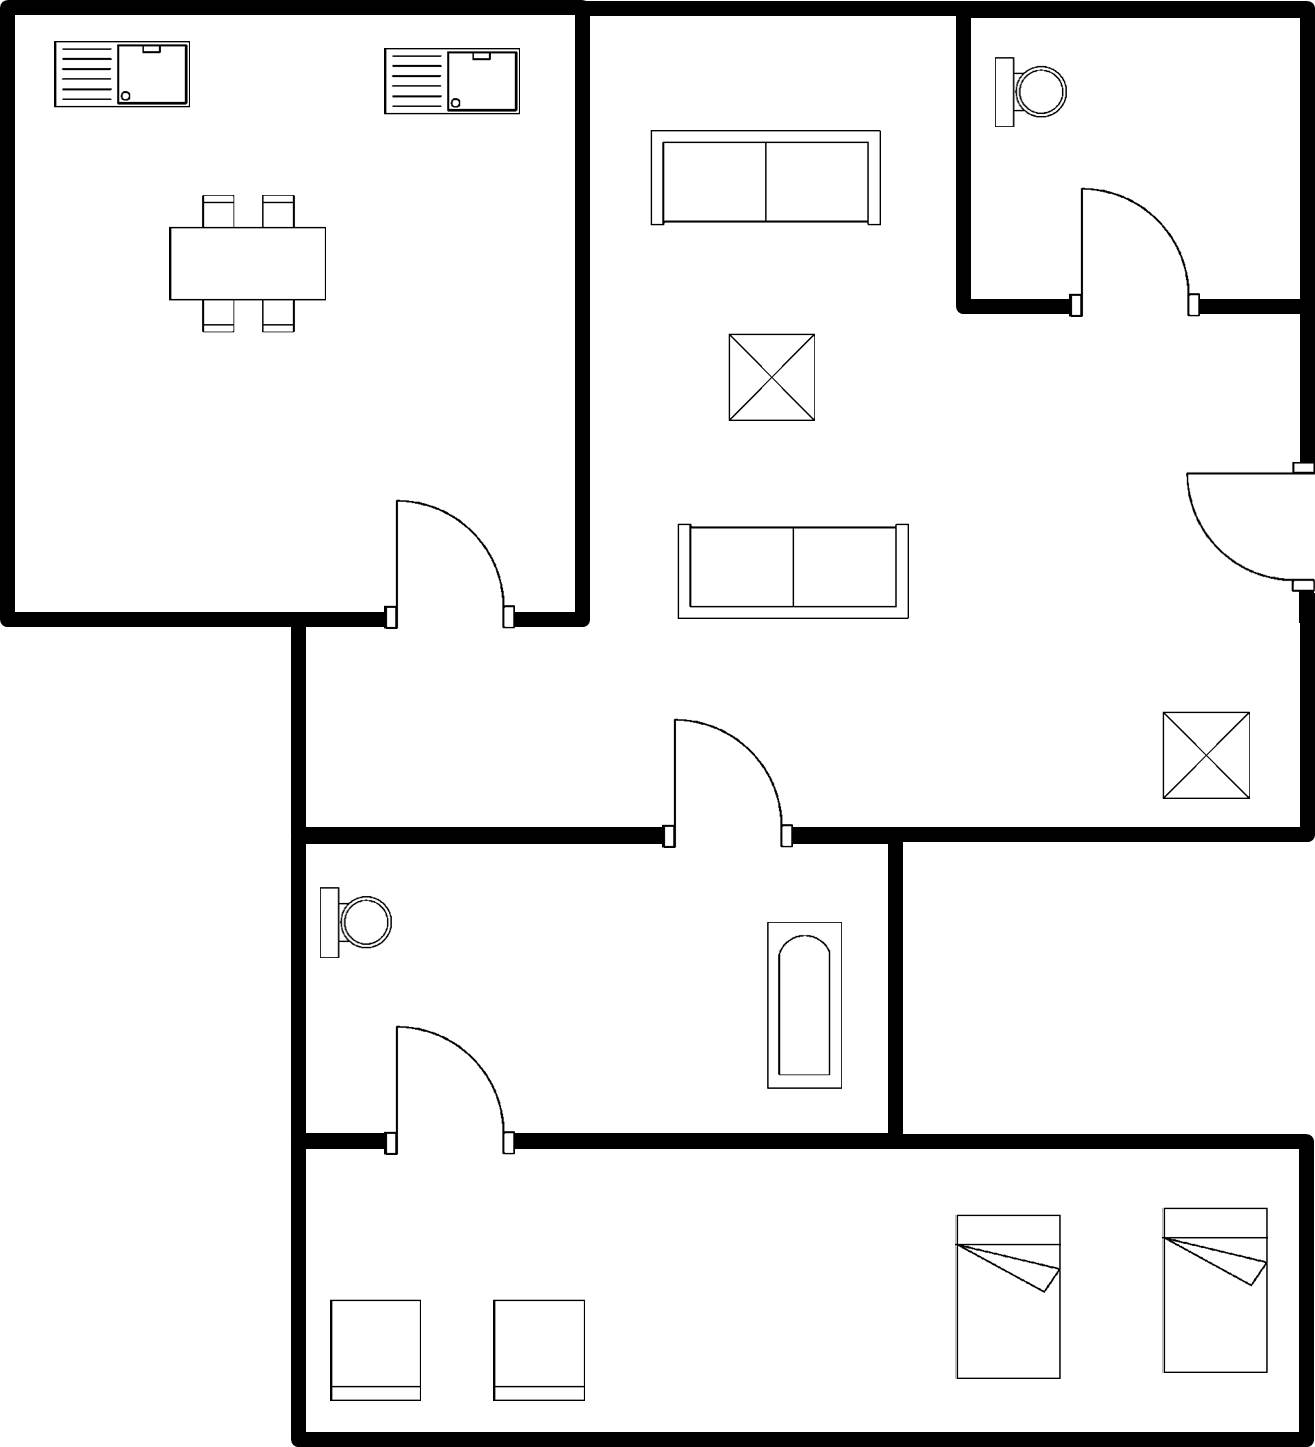bed: (1148, 1196, 1280, 1388), (942, 1203, 1076, 1390)
coffee_table: (716, 321, 834, 434), (1152, 700, 1262, 810)
dining_table: (159, 185, 335, 345)
large_sink: (313, 871, 399, 973), (987, 44, 1079, 138)
large_sofa: (637, 114, 893, 237), (666, 511, 920, 628)
sink: (370, 40, 532, 126), (41, 34, 197, 120)
small_sofa: (483, 1290, 599, 1410), (320, 1289, 435, 1411)
tub: (754, 914, 854, 1100)
